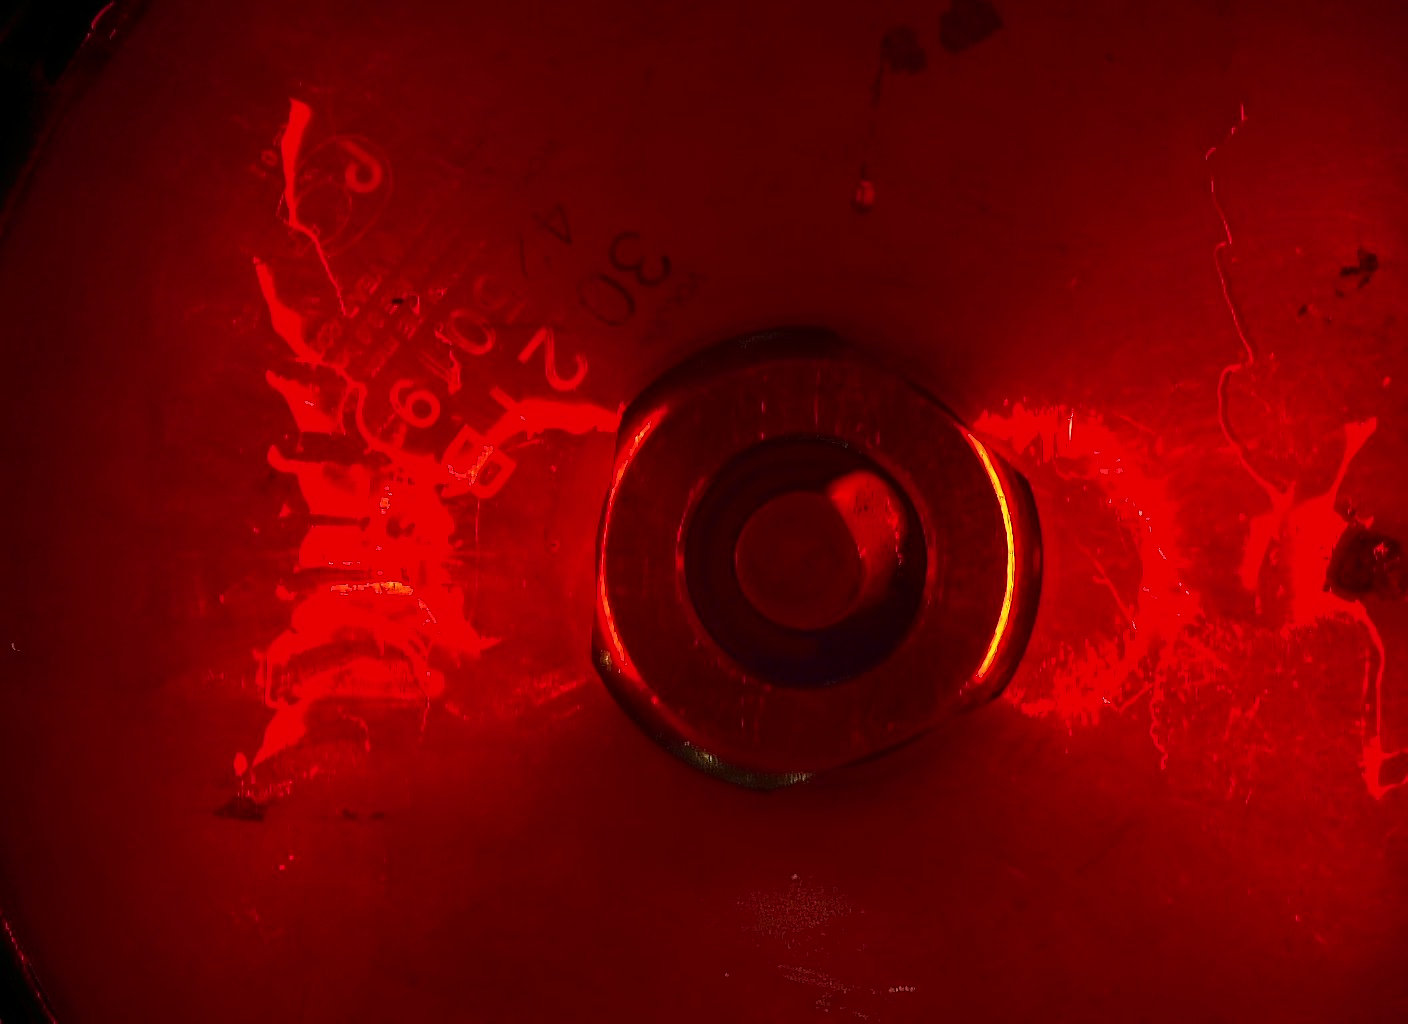pena: (820, 458, 906, 623)
